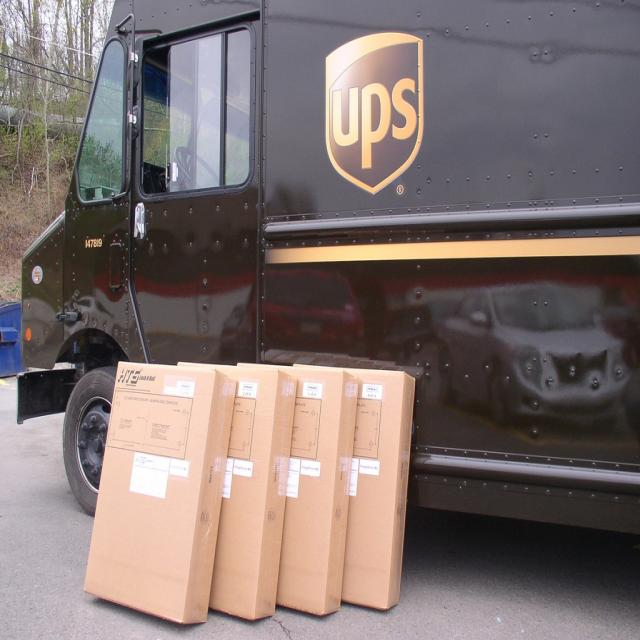ups: (325, 31, 425, 197)
